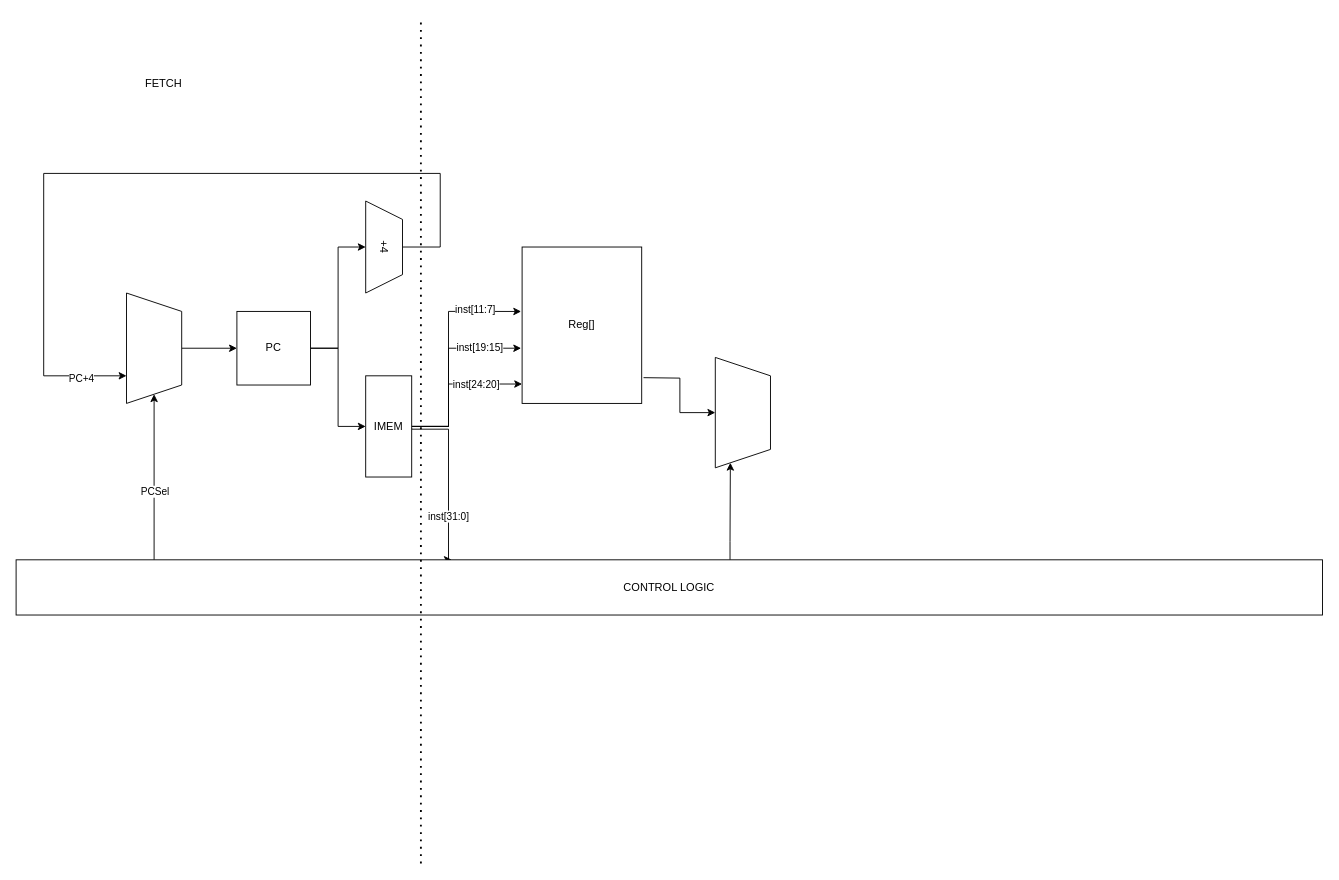
The diagram is 1339 pixels wide and 880 high, and some of its shapes have lost their labels. The centre of each missing label's shape, as x and y in pixels:
Branch Compare: the point at 742,412
PC Select: the point at 154,347
